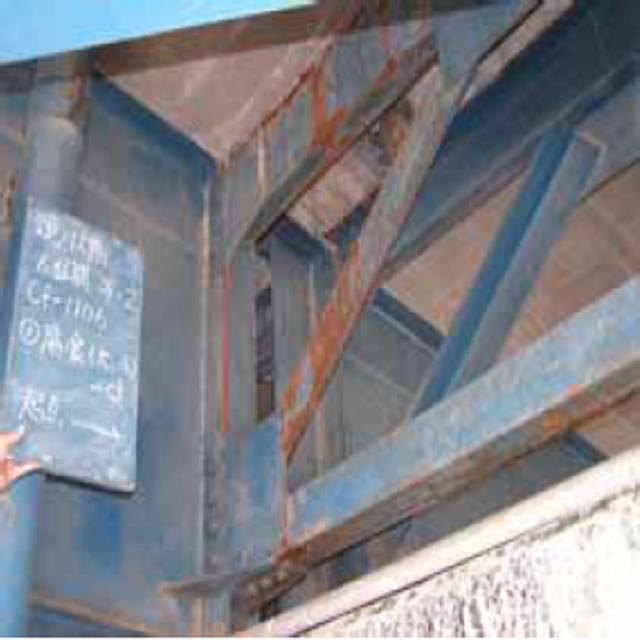corrosion: (200, 24, 434, 423)
